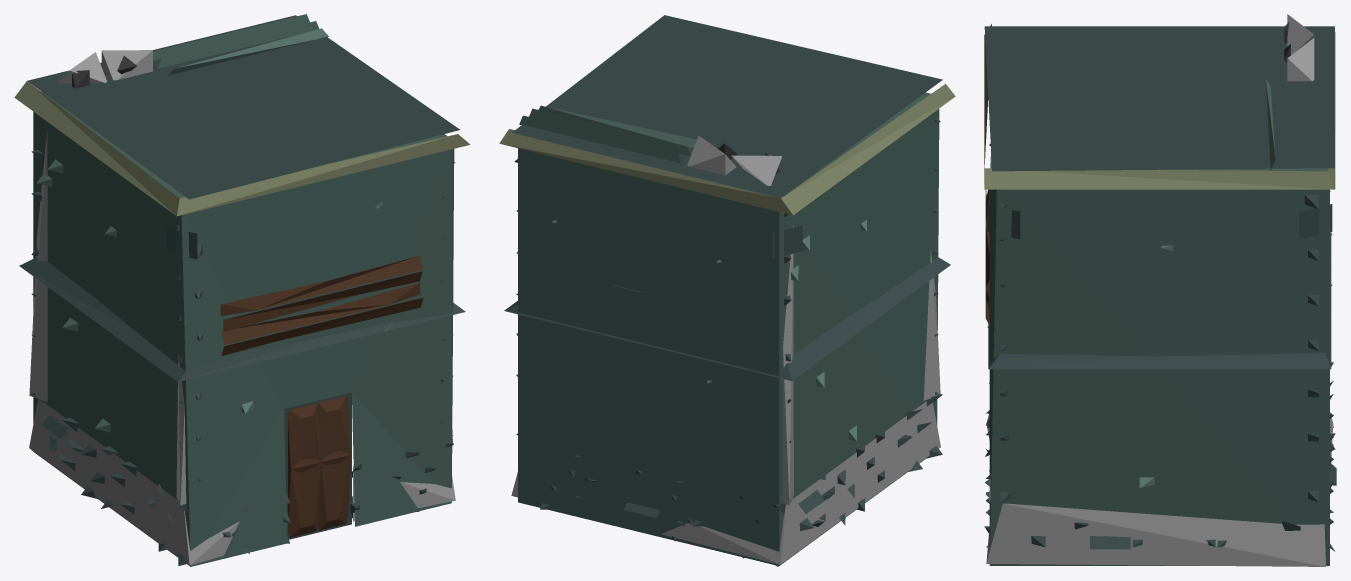
File: 2Story_Sign_lod.glb
The picture shows the model from 3 angles, left to right: view 1: azimuth 30°, elevation 25°; view 2: azimuth 150°, elevation 25°; view 3: azimuth 270°, elevation 25°; orthographic projection. The views are drawn at different scales.
Parts seen in each view (by area): view 1: 2Story_Sign_Mat; view 2: 2Story_Sign_Mat; view 3: 2Story_Sign_Mat.
Boxes of the visible parts, box(x1,y1,x2,y2) form: 2Story_Sign_Mat: box(14, 14, 470, 566); 2Story_Sign_Mat: box(499, 15, 955, 566); 2Story_Sign_Mat: box(984, 14, 1336, 566).
Size of the model in its own units: 2.15 by 2.74 by 2.07.
